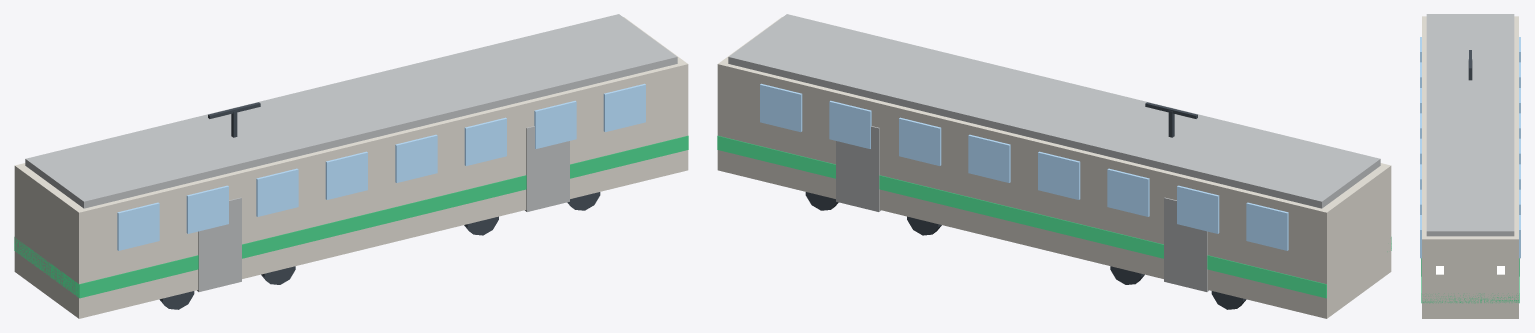
File: lm_train.glb
The picture shows the model from 3 angles, left to right: view 1: azimuth 30°, elevation 25°; view 2: azimuth 150°, elevation 25°; view 3: azimuth 270°, elevation 25°; orthographic projection. The views are drawn at different scales.
Parts seen in each view (by area): view 1: carbody.001, roof_cap.001, stripe.002, door.045, door.047, win.061, win.065, win.063, win.069, win.067, win.077, win.081 (+1 smaller); view 2: carbody.001, roof_cap.001, stripe.002, door.045, door.047, win.062, win.066, win.064, win.070, win.068, win.078, win.082 (+1 smaller); view 3: roof_cap.001, carbody.001, stripe.002, win.081, win.082.
Part boxes in pixels (left/top/right/bottom): carbody.001: left=14, top=17, right=688, bottom=318; roof_cap.001: left=25, top=14, right=677, bottom=208; stripe.002: left=14, top=135, right=688, bottom=298; door.045: left=197, top=197, right=241, bottom=291; door.047: left=525, top=126, right=569, bottom=211; win.061: left=117, top=202, right=159, bottom=250; win.065: left=256, top=168, right=298, bottom=216; win.063: left=186, top=185, right=228, bottom=233; win.069: left=395, top=134, right=437, bottom=182; win.067: left=325, top=151, right=367, bottom=199; win.077: left=464, top=117, right=506, bottom=165; win.081: left=603, top=83, right=645, bottom=132; carbody.001: left=717, top=17, right=1391, bottom=318; roof_cap.001: left=728, top=14, right=1380, bottom=208; stripe.002: left=717, top=135, right=1391, bottom=298; door.045: left=1164, top=197, right=1208, bottom=291; door.047: left=836, top=126, right=880, bottom=211; win.062: left=1246, top=202, right=1288, bottom=250; win.066: left=1107, top=168, right=1149, bottom=216; win.064: left=1177, top=185, right=1219, bottom=233; win.070: left=968, top=134, right=1010, bottom=182; win.068: left=1038, top=151, right=1080, bottom=199; win.078: left=899, top=117, right=941, bottom=165; win.082: left=760, top=83, right=802, bottom=132; roof_cap.001: left=1426, top=14, right=1514, bottom=236; carbody.001: left=1422, top=16, right=1518, bottom=318; stripe.002: left=1421, top=258, right=1519, bottom=303; win.081: left=1420, top=215, right=1421, bottom=258; win.082: left=1519, top=215, right=1520, bottom=258.
Size of the model in its own units: 15.78 by 3.86 by 2.98.
